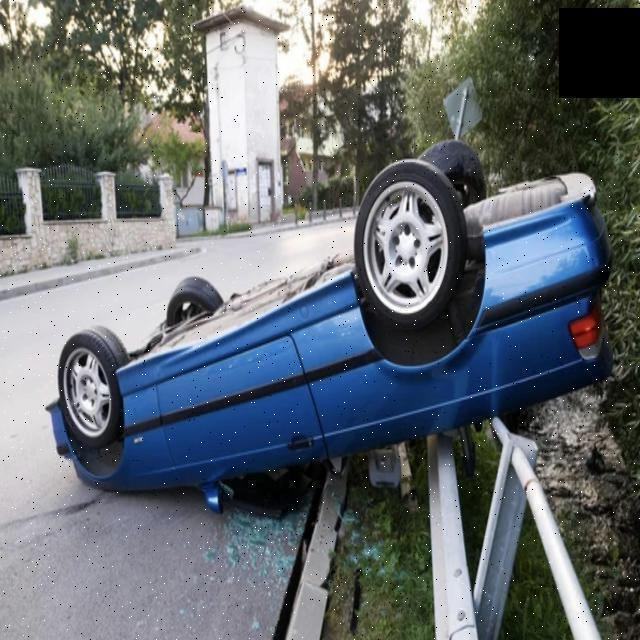multiple_accident: (70, 271, 636, 507)
